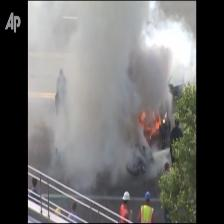fire: (137, 110, 161, 138)
